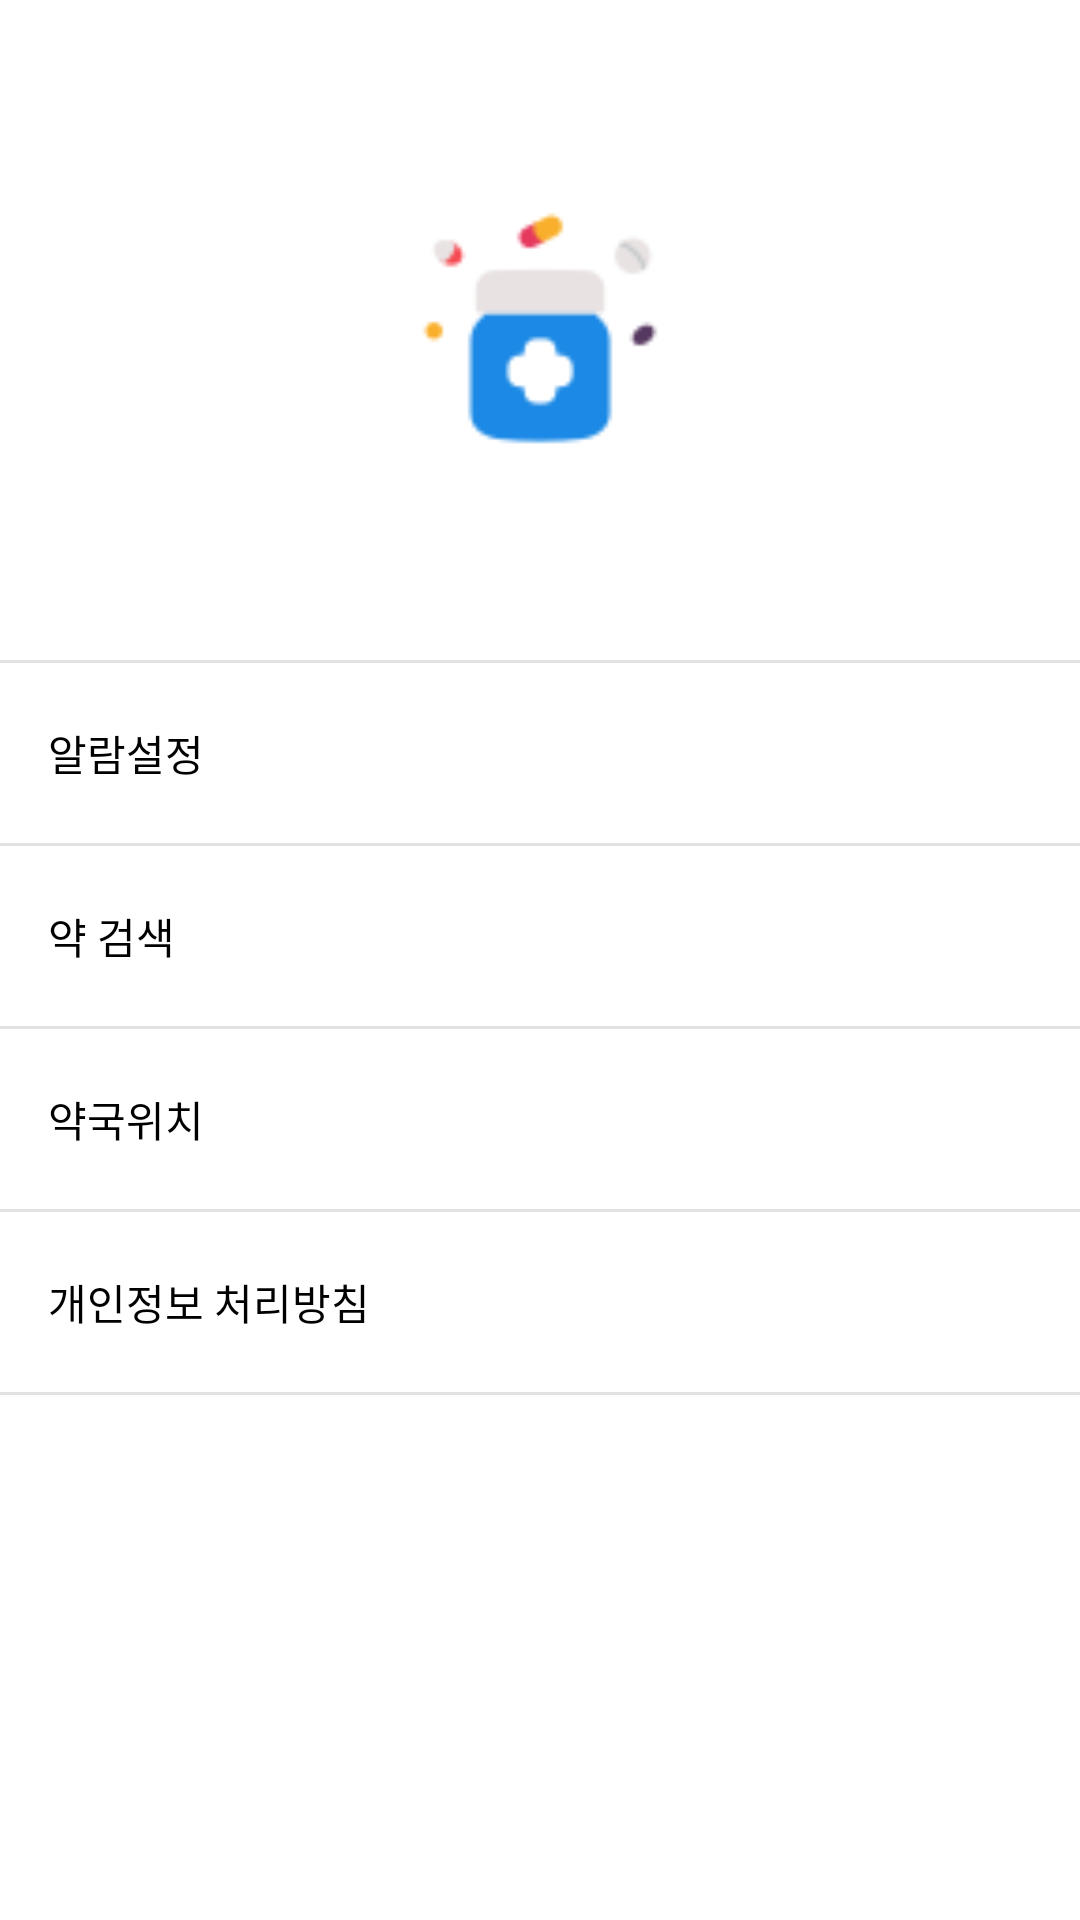

Icon click points for this 1080px×1920px phone screenshot, format [x,y]:
pill: [540,328]
